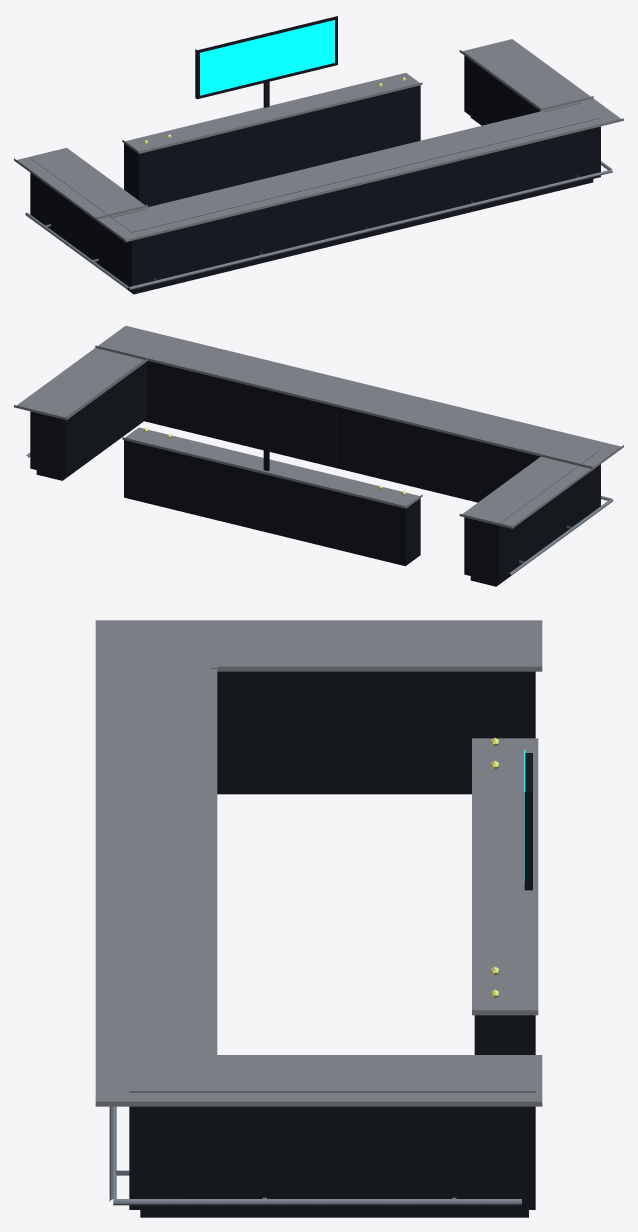
The model's file is tt_bar.glb.
3 views of the same model, one above another, from view 1: azimuth 30°, elevation 25°; view 2: azimuth 150°, elevation 25°; view 3: azimuth 270°, elevation 25° (orthographic). The views are drawn at different scales.
Parts seen in each view (by area): view 1: Counter_Body, Counter_Top_Slate, Back_Bar, Score_Screen, Back_Bar_Top, Foot_Rail, Counter_Plinth, Score_Screen_Frame; view 2: Counter_Body, Counter_Top_Slate, Back_Bar, Score_Screen_Frame, Back_Bar_Top, Counter_Plinth, Foot_Rail; view 3: Counter_Top_Slate, Counter_Body, Back_Bar_Top, Counter_Plinth, Foot_Rail, Back_Bar, Score_Screen_Frame.
Part boxes in pixels (bbox=[...]): Counter_Body: bbox=[30, 52, 600, 291]; Counter_Top_Slate: bbox=[14, 39, 623, 242]; Back_Bar: bbox=[124, 85, 420, 206]; Score_Screen: bbox=[200, 20, 334, 95]; Back_Bar_Top: bbox=[122, 73, 422, 153]; Foot_Rail: bbox=[25, 161, 612, 289]; Counter_Plinth: bbox=[127, 116, 593, 294]; Score_Screen_Frame: bbox=[195, 16, 337, 107]; Counter_Body: bbox=[30, 360, 600, 582]; Counter_Top_Slate: bbox=[14, 325, 623, 528]; Back_Bar: bbox=[124, 440, 420, 566]; Score_Screen_Frame: bbox=[195, 379, 337, 470]; Back_Bar_Top: bbox=[122, 427, 422, 508]; Counter_Plinth: bbox=[36, 418, 510, 586]; Foot_Rail: bbox=[26, 452, 613, 575]; Counter_Top_Slate: bbox=[95, 620, 542, 1106]; Counter_Body: bbox=[129, 668, 535, 1209]; Back_Bar_Top: bbox=[472, 738, 538, 1015]; Counter_Plinth: bbox=[140, 786, 528, 1217]; Foot_Rail: bbox=[109, 1106, 521, 1205]; Back_Bar: bbox=[474, 1015, 535, 1054]; Score_Screen_Frame: bbox=[524, 753, 532, 890].
Size of what is drawn, in the model's own units: 8.5 by 2.2 by 3.3.
6 materials, 2 textured.
